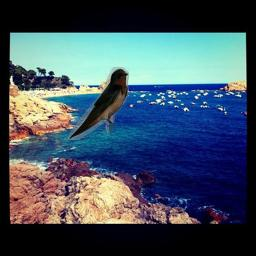Swallow: (68, 67, 129, 140)
